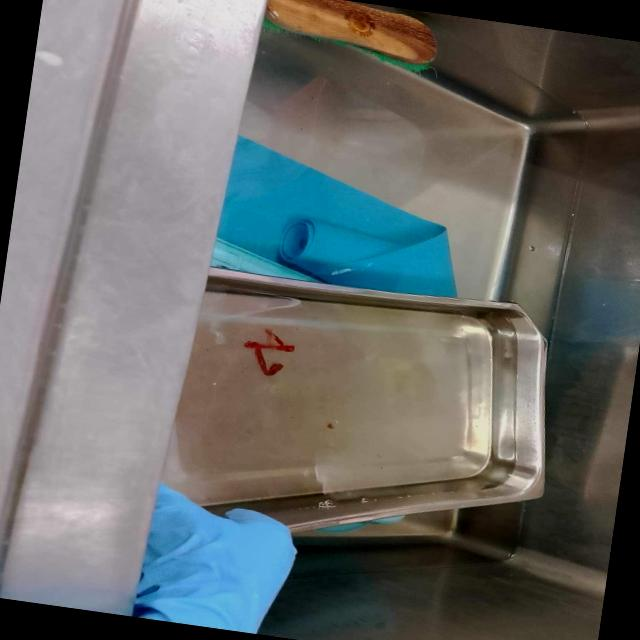General: (2, 1, 637, 634)
Infectious: (133, 483, 298, 634)
Pathological: (161, 266, 549, 537)
Sharps: (264, 0, 438, 67)
